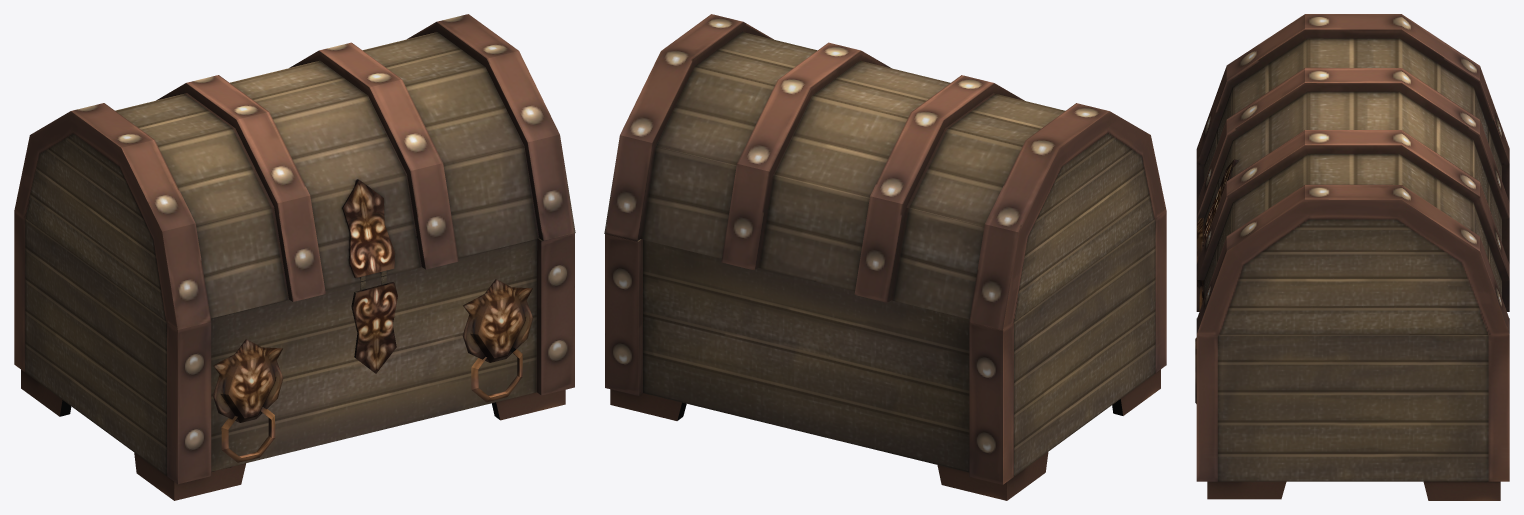
The model's file is MedievalChest_02_closed.fbx.
3 renders of one model, left to right at view 1: azimuth 30°, elevation 25°; view 2: azimuth 150°, elevation 25°; view 3: azimuth 270°, elevation 25°, orthographic. The views are drawn at different scales.
Parts seen in each view (by area): view 1: Medieval_chest_02_closed; view 2: Medieval_chest_02_closed; view 3: Medieval_chest_02_closed.
Part boxes in pixels (<box>): Medieval_chest_02_closed: <box>14,14,575,500</box>; Medieval_chest_02_closed: <box>604,14,1166,500</box>; Medieval_chest_02_closed: <box>1195,14,1509,500</box>.
Size of the model in its own units: 30.51 by 23.1 by 21.83.
